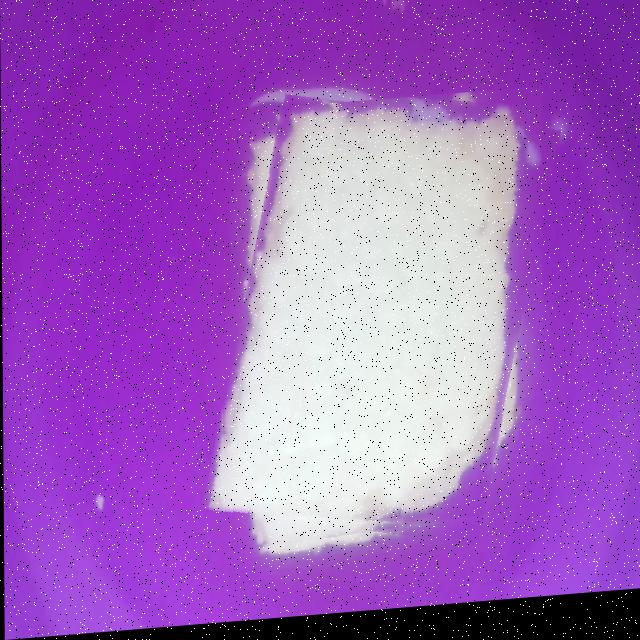litter: (219, 95, 543, 557)
